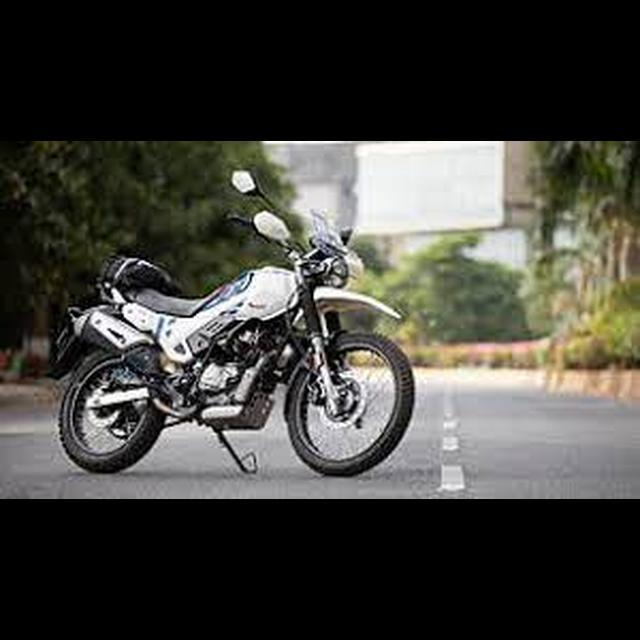motorcycle: (43, 167, 419, 485)
